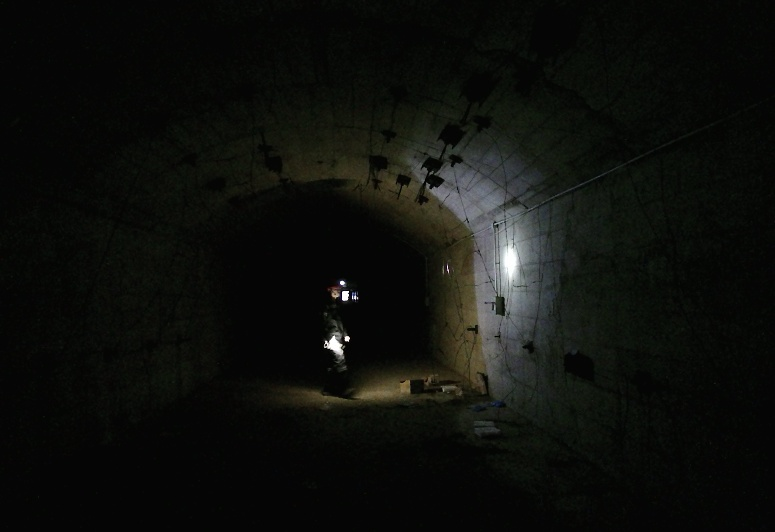person: (305, 283, 351, 409)
